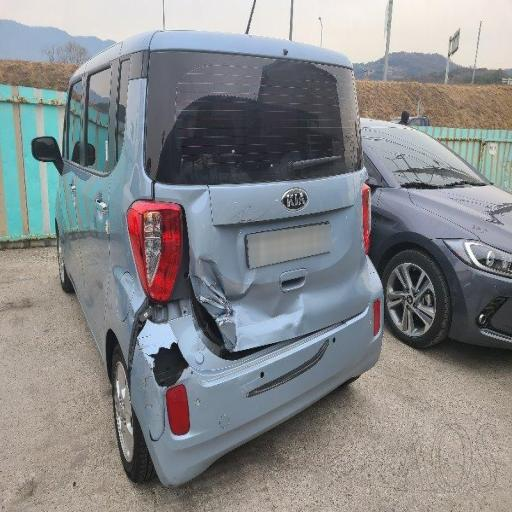broken: (84, 160, 300, 470)
